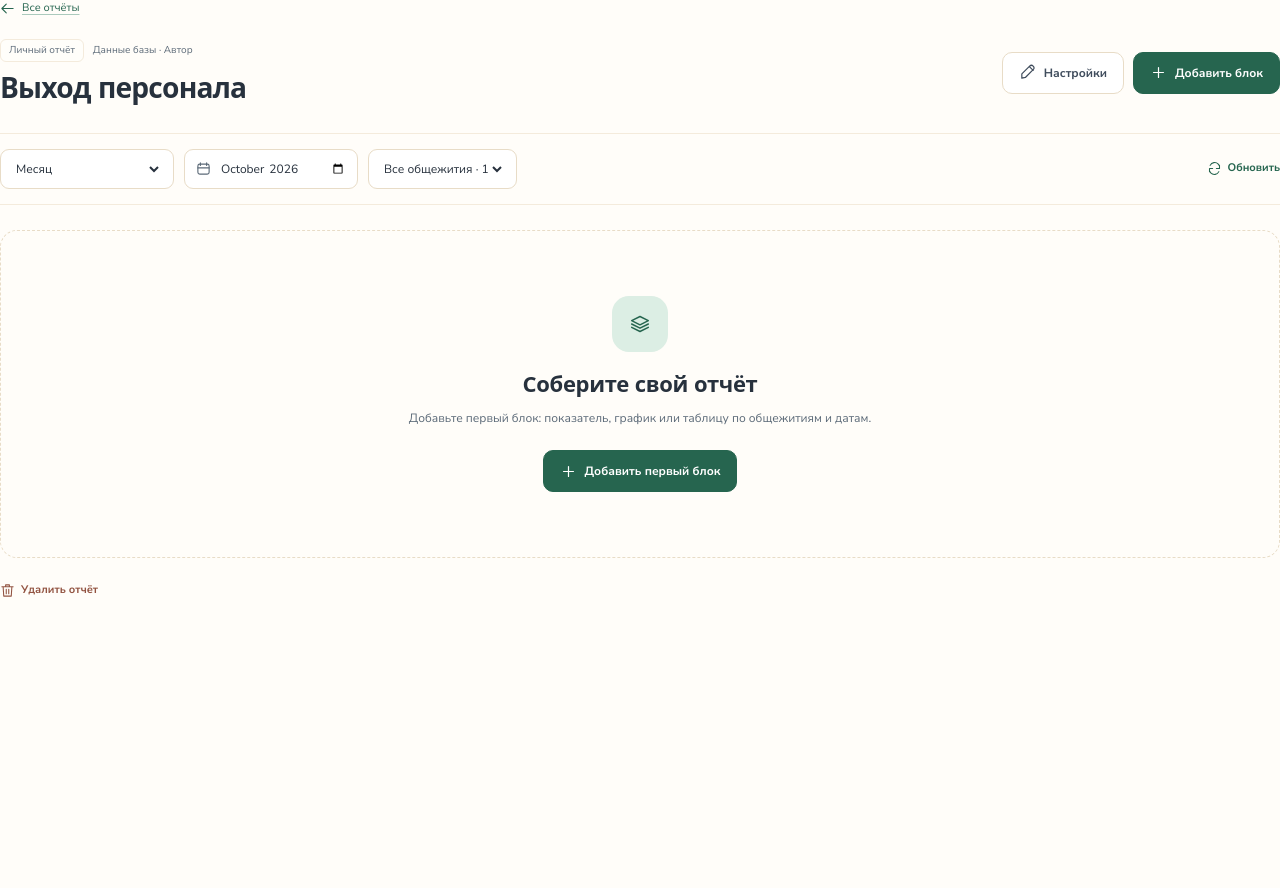
Scenario: сохраняет черновик при конфликте версий и не подменяет пропуски нулём
Step 1. Click the button "Добавить первый блок" → coordinates (640, 471), box [542, 450, 737, 492]
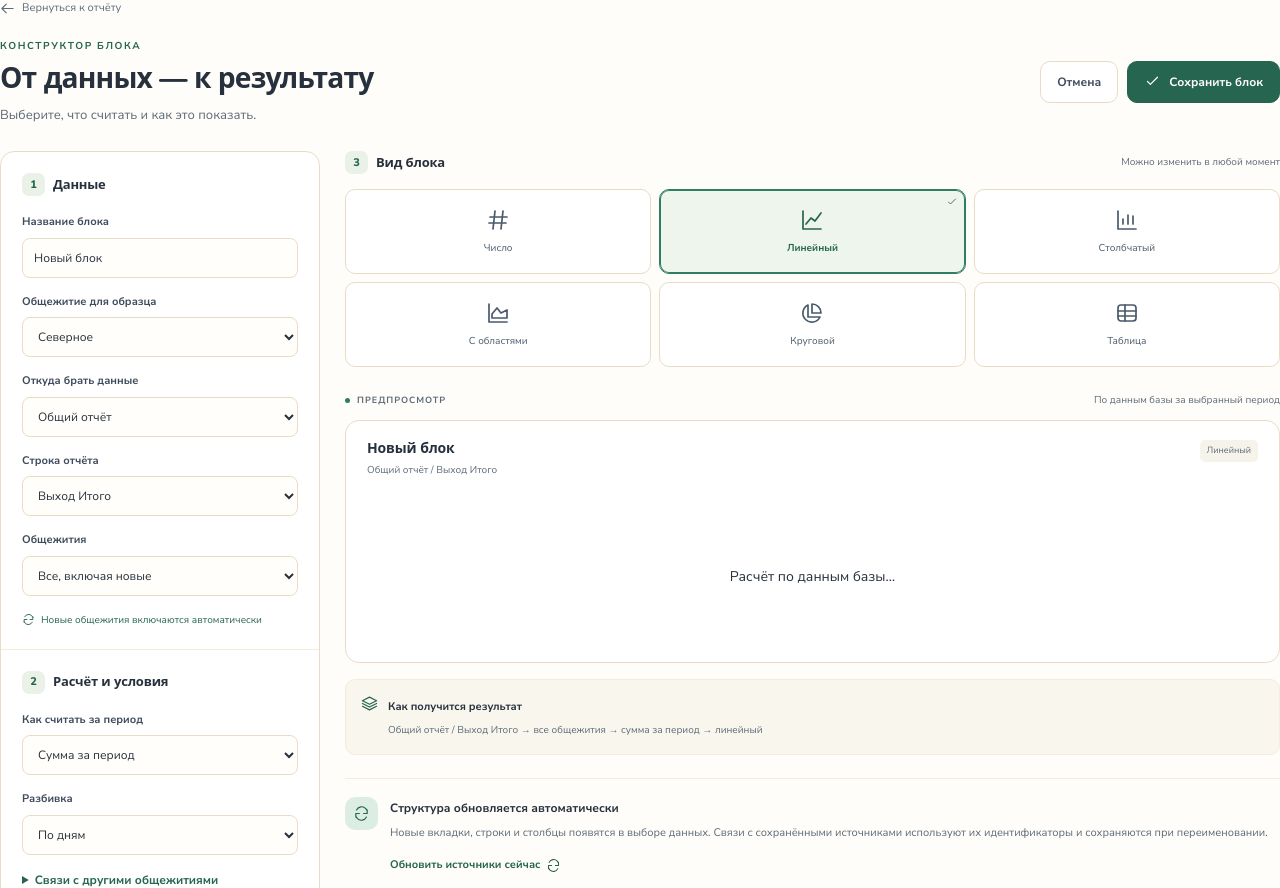
Step 2. Click the button "Сохранить блок" → coordinates (1204, 82), box [1127, 61, 1279, 103]
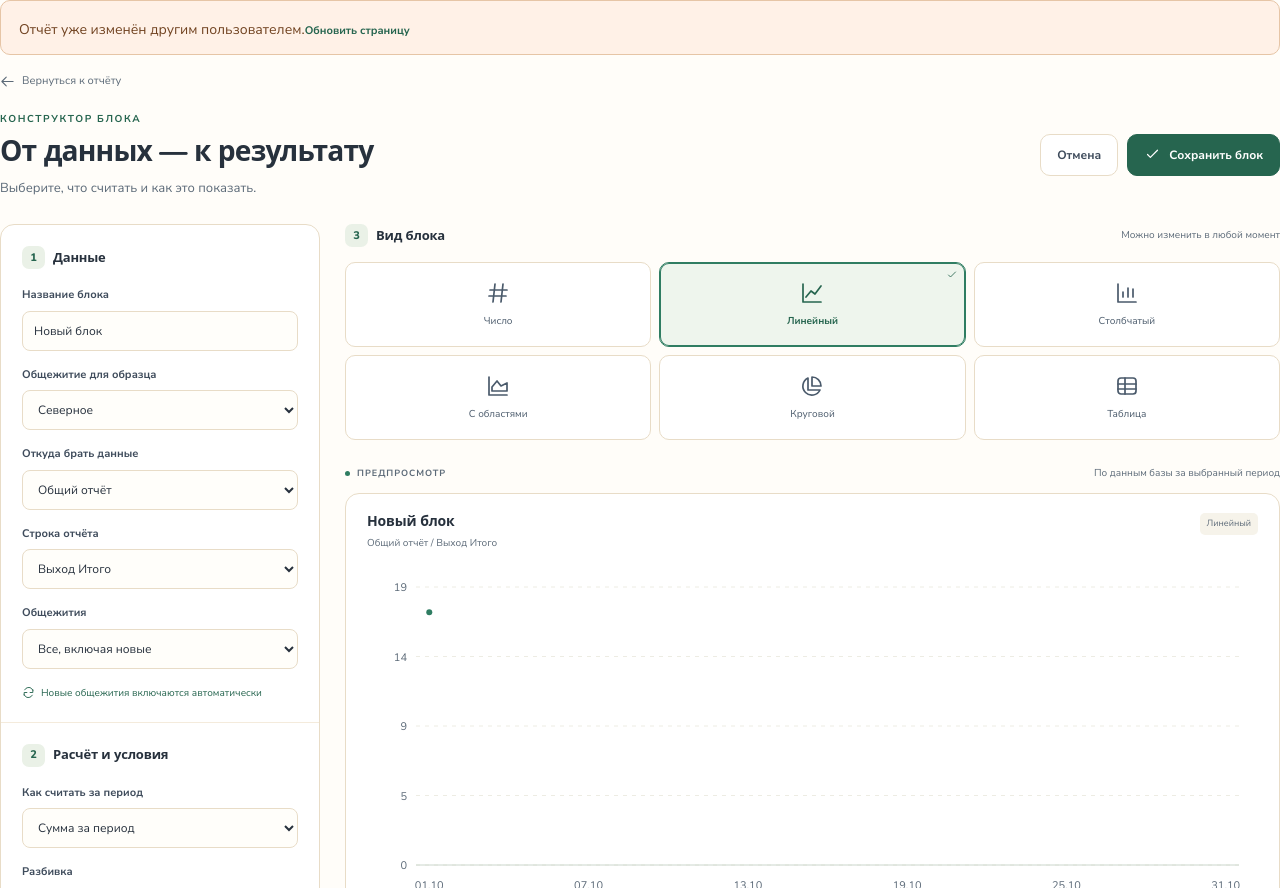
Check: the field labelled "Название блока" holds "Новый блок", box [22, 311, 298, 351]
Check: the message shows "Отчёт уже изменён", box [19, 20, 305, 39]
